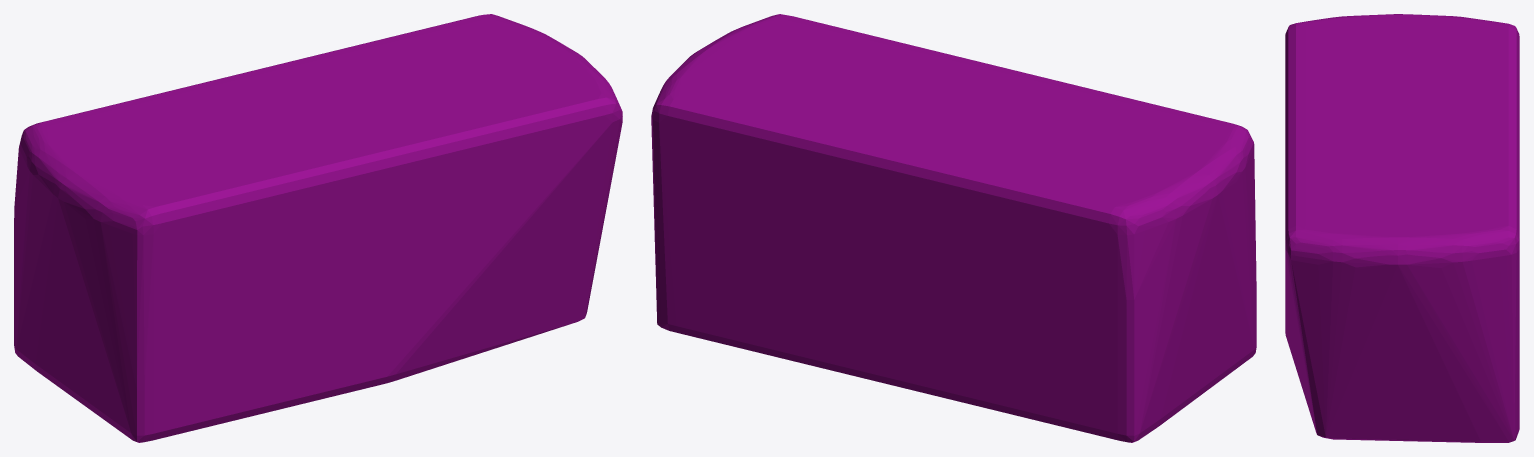
The model's file is right_shoulder_pitch_link_part_14.obj.
3 views of the same model, side by side, from view 1: azimuth 30°, elevation 25°; view 2: azimuth 150°, elevation 25°; view 3: azimuth 270°, elevation 25° (orthographic). The views are drawn at different scales.
Size of the model in its own units: 0.0651 by 0.0274 by 0.0271.
